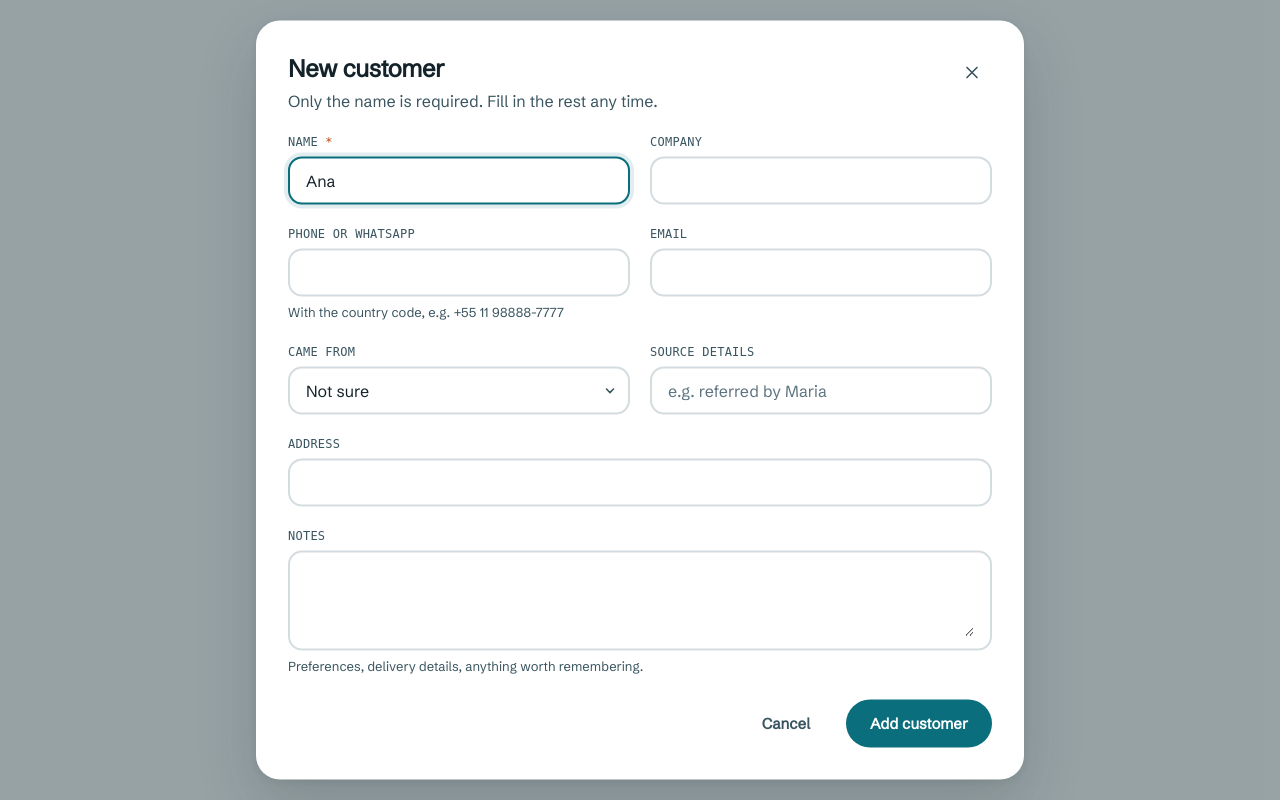
CustomerDialog sources › adds a new source on the spot and selects it
Select "+ New source…" in the dropdown labelled "Came from": [451, 390] box [306,368,596,412]
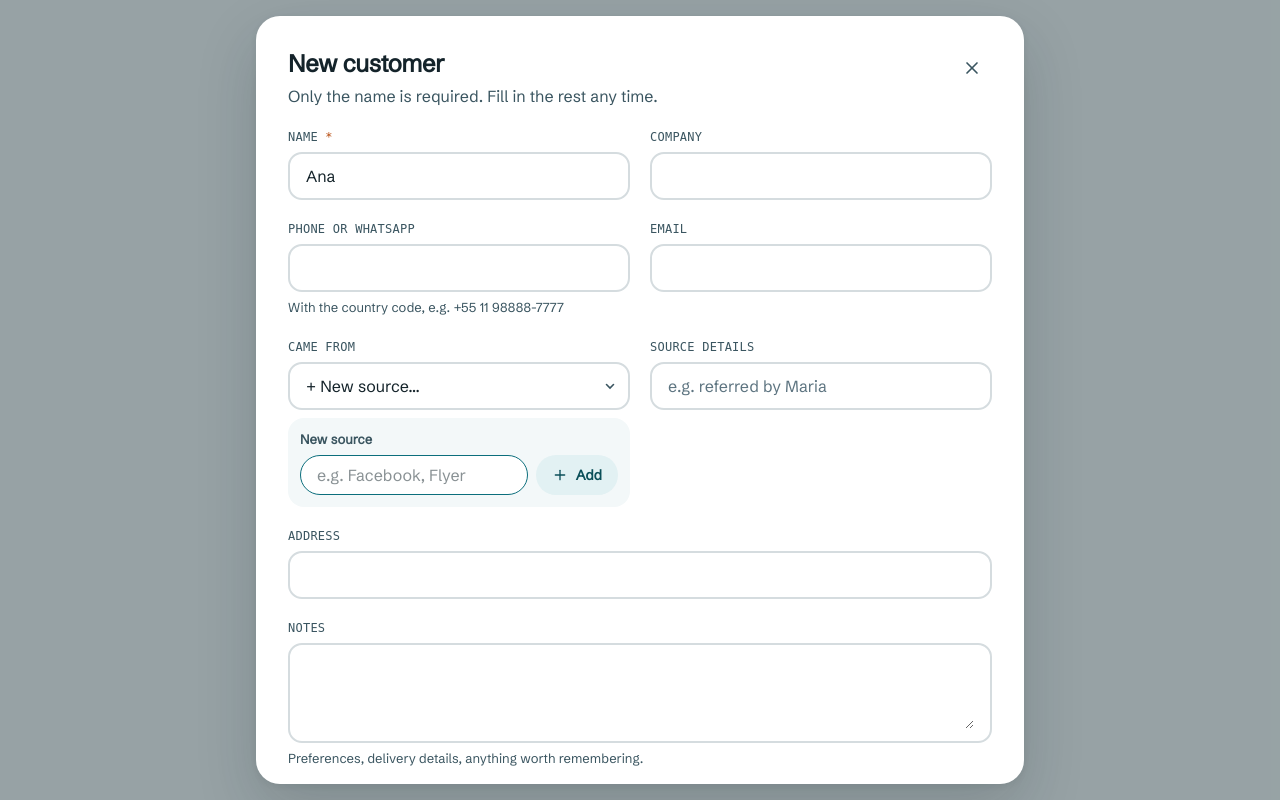
In the field labelled "New source": [414, 475] box [300,455,528,495], type "Flyer"
Then press Enter
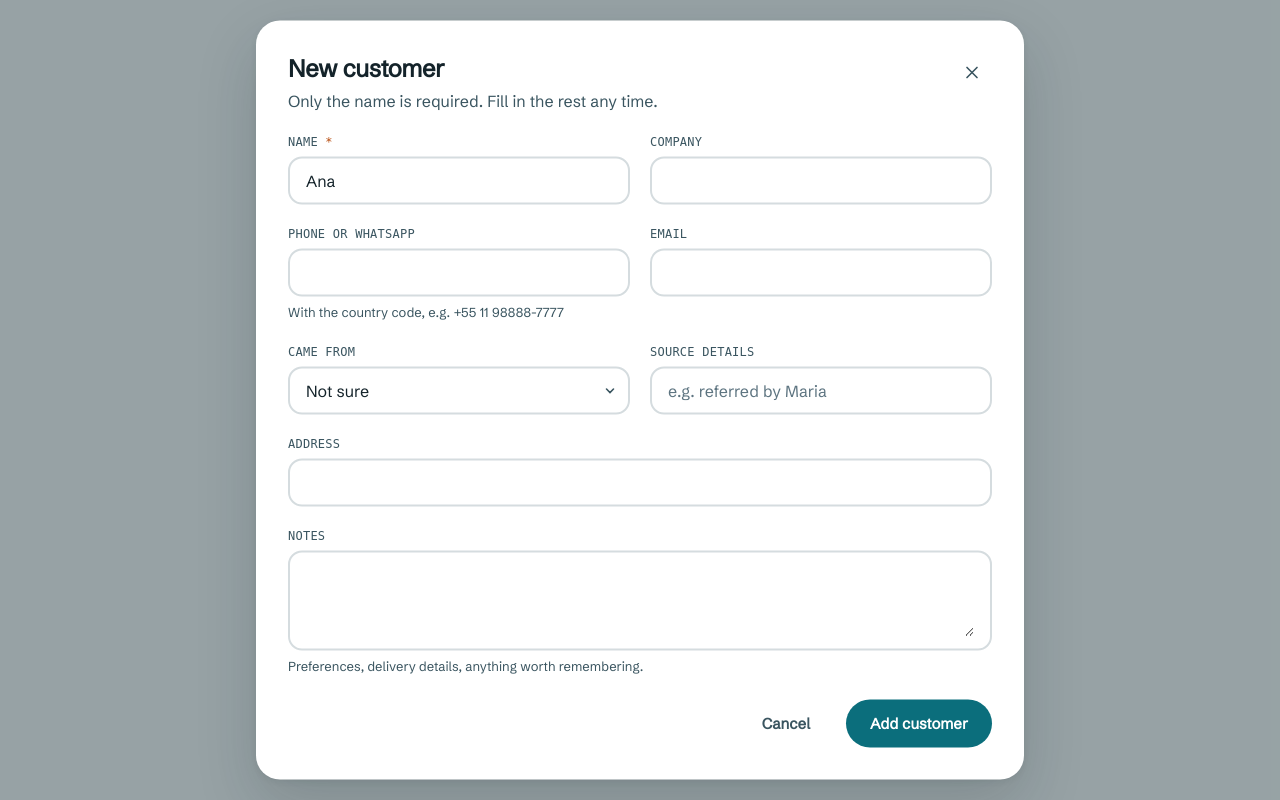
Expected: the label labelled "New source" is gone
